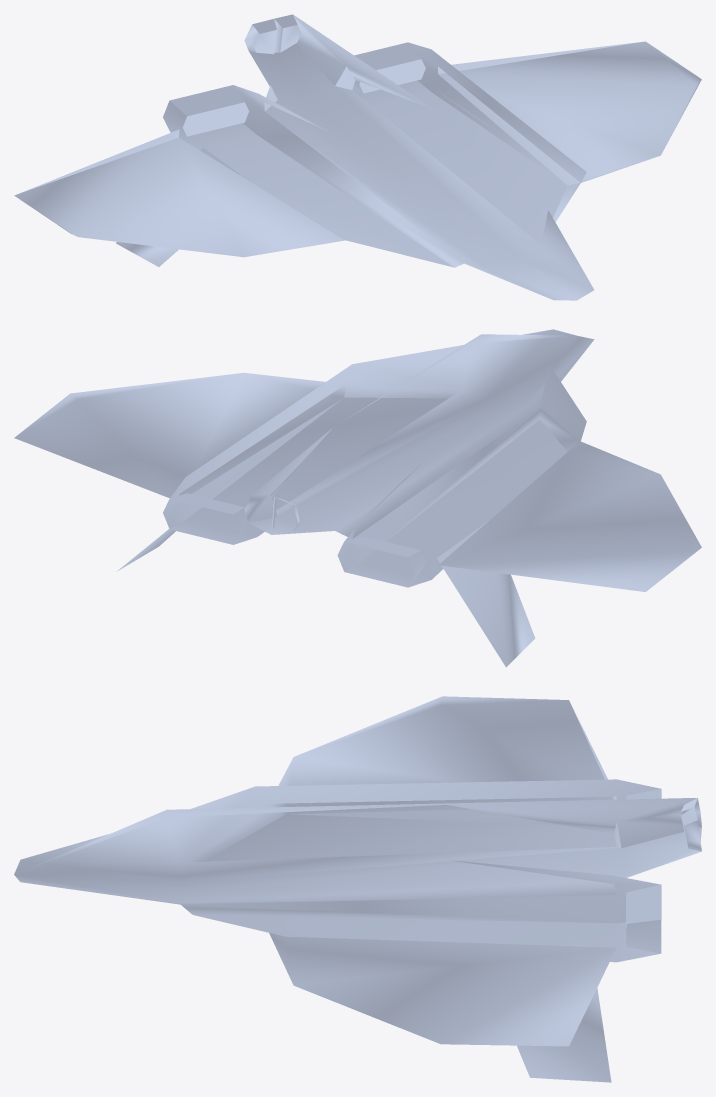
The model's file is ps2_save-icons_spacerebellion.glb.
3 renders of one model, top to bottom at view 1: azimuth 30°, elevation 25°; view 2: azimuth 150°, elevation 25°; view 3: azimuth 270°, elevation 25°, orthographic. The views are drawn at different scales.
Visible parts, largest first — view 1: icon.ico; view 2: icon.ico; view 3: icon.ico.
Boxes of the visible parts, x1,y1,x2,y2 form: icon.ico: (14,14,701,300); icon.ico: (14,329,701,667); icon.ico: (14,696,701,1082).
Size of the model in its own units: 4.39 by 0.9963 by 3.69.
1 material, 1 textured.
